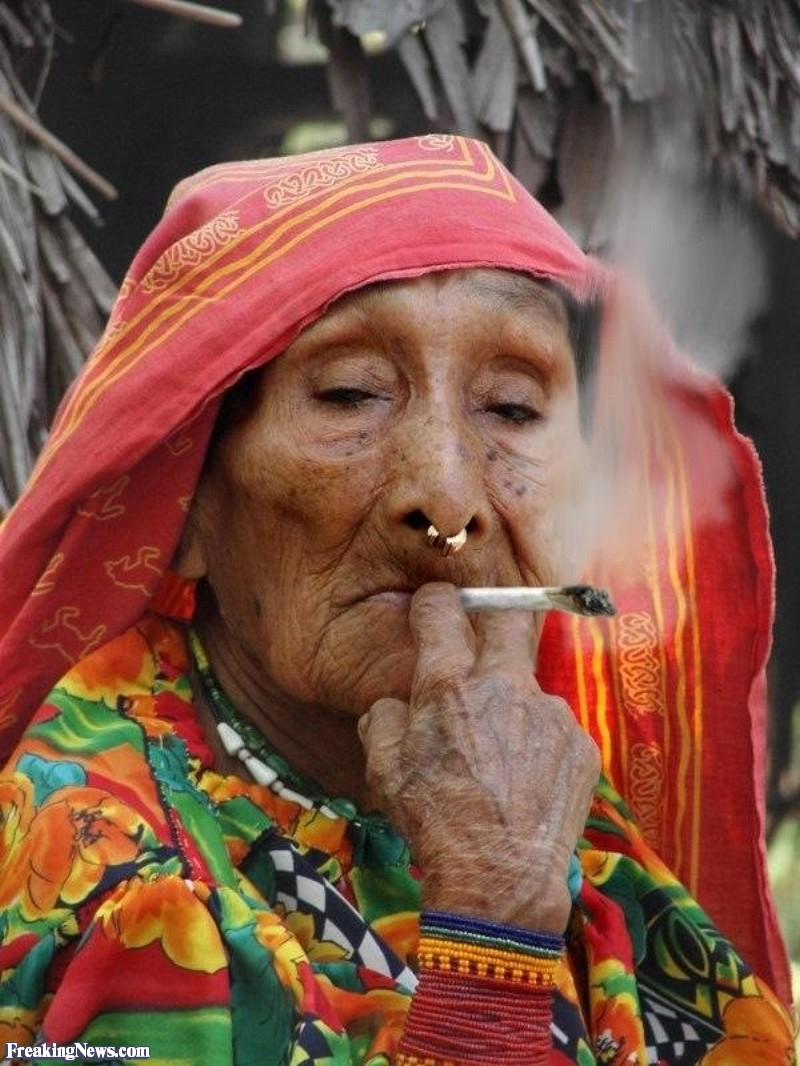ci: (456, 586, 618, 614)
